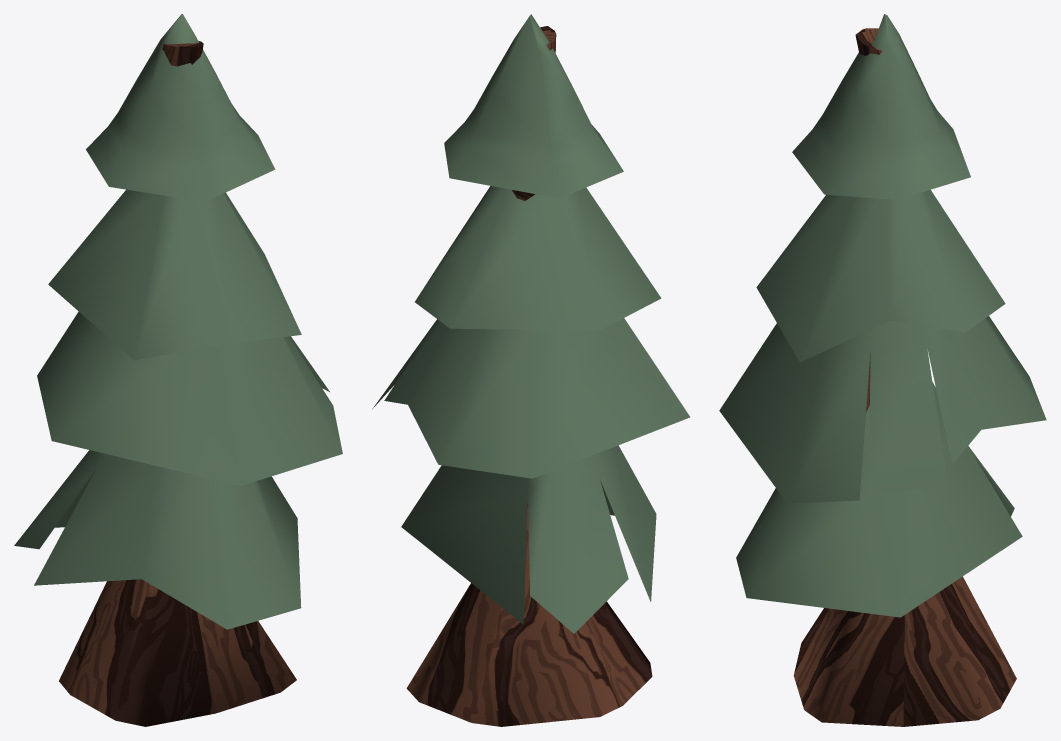
The model's file is Low tree 1.fbx.
3 views of the same model, side by side, from view 1: azimuth 30°, elevation 25°; view 2: azimuth 150°, elevation 25°; view 3: azimuth 270°, elevation 25° (orthographic).
Parts seen in each view (by area): view 1: Pines_1; view 2: Pines_1; view 3: Pines_1.
Boxes of the visible parts, x1,y1,x2,y2 form: Pines_1: [14, 14, 342, 726]; Pines_1: [372, 14, 690, 726]; Pines_1: [719, 14, 1046, 726].
Bounding box in the file's own units: 7.68 × 17.04 × 7.58.
